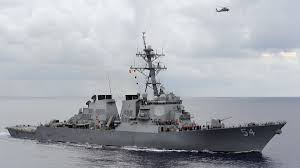maybay_muctieu: (214, 5, 232, 13)
tau_muctieu: (16, 52, 281, 154)
